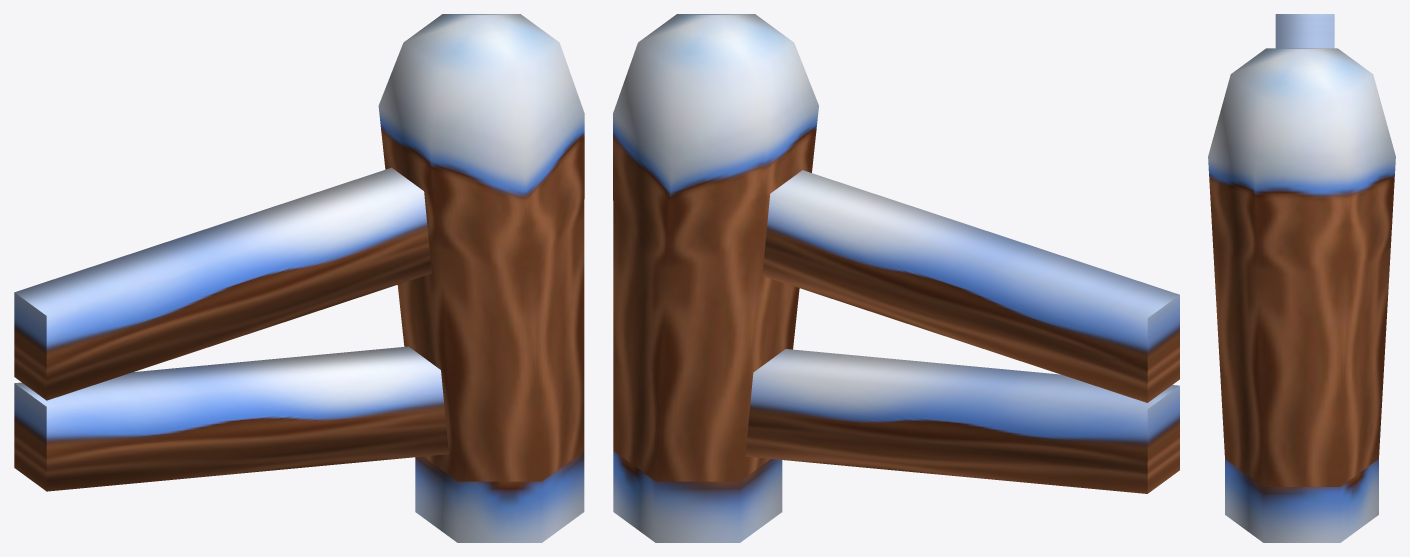
File: Object_Fence1.FBX
3 renders of one model, left to right at view 1: azimuth 30°, elevation 25°; view 2: azimuth 150°, elevation 25°; view 3: azimuth 270°, elevation 25°, orthographic. The views are drawn at different scales.
Parts seen in each view (by area): view 1: fence; view 2: fence; view 3: fence.
Boxes of the visible parts, x1,y1,x2,y2 form: fence: [14, 14, 584, 542]; fence: [613, 14, 1179, 542]; fence: [1208, 14, 1395, 542].
Bounding box in the file's own units: 46.32 × 41.77 × 15.57.
